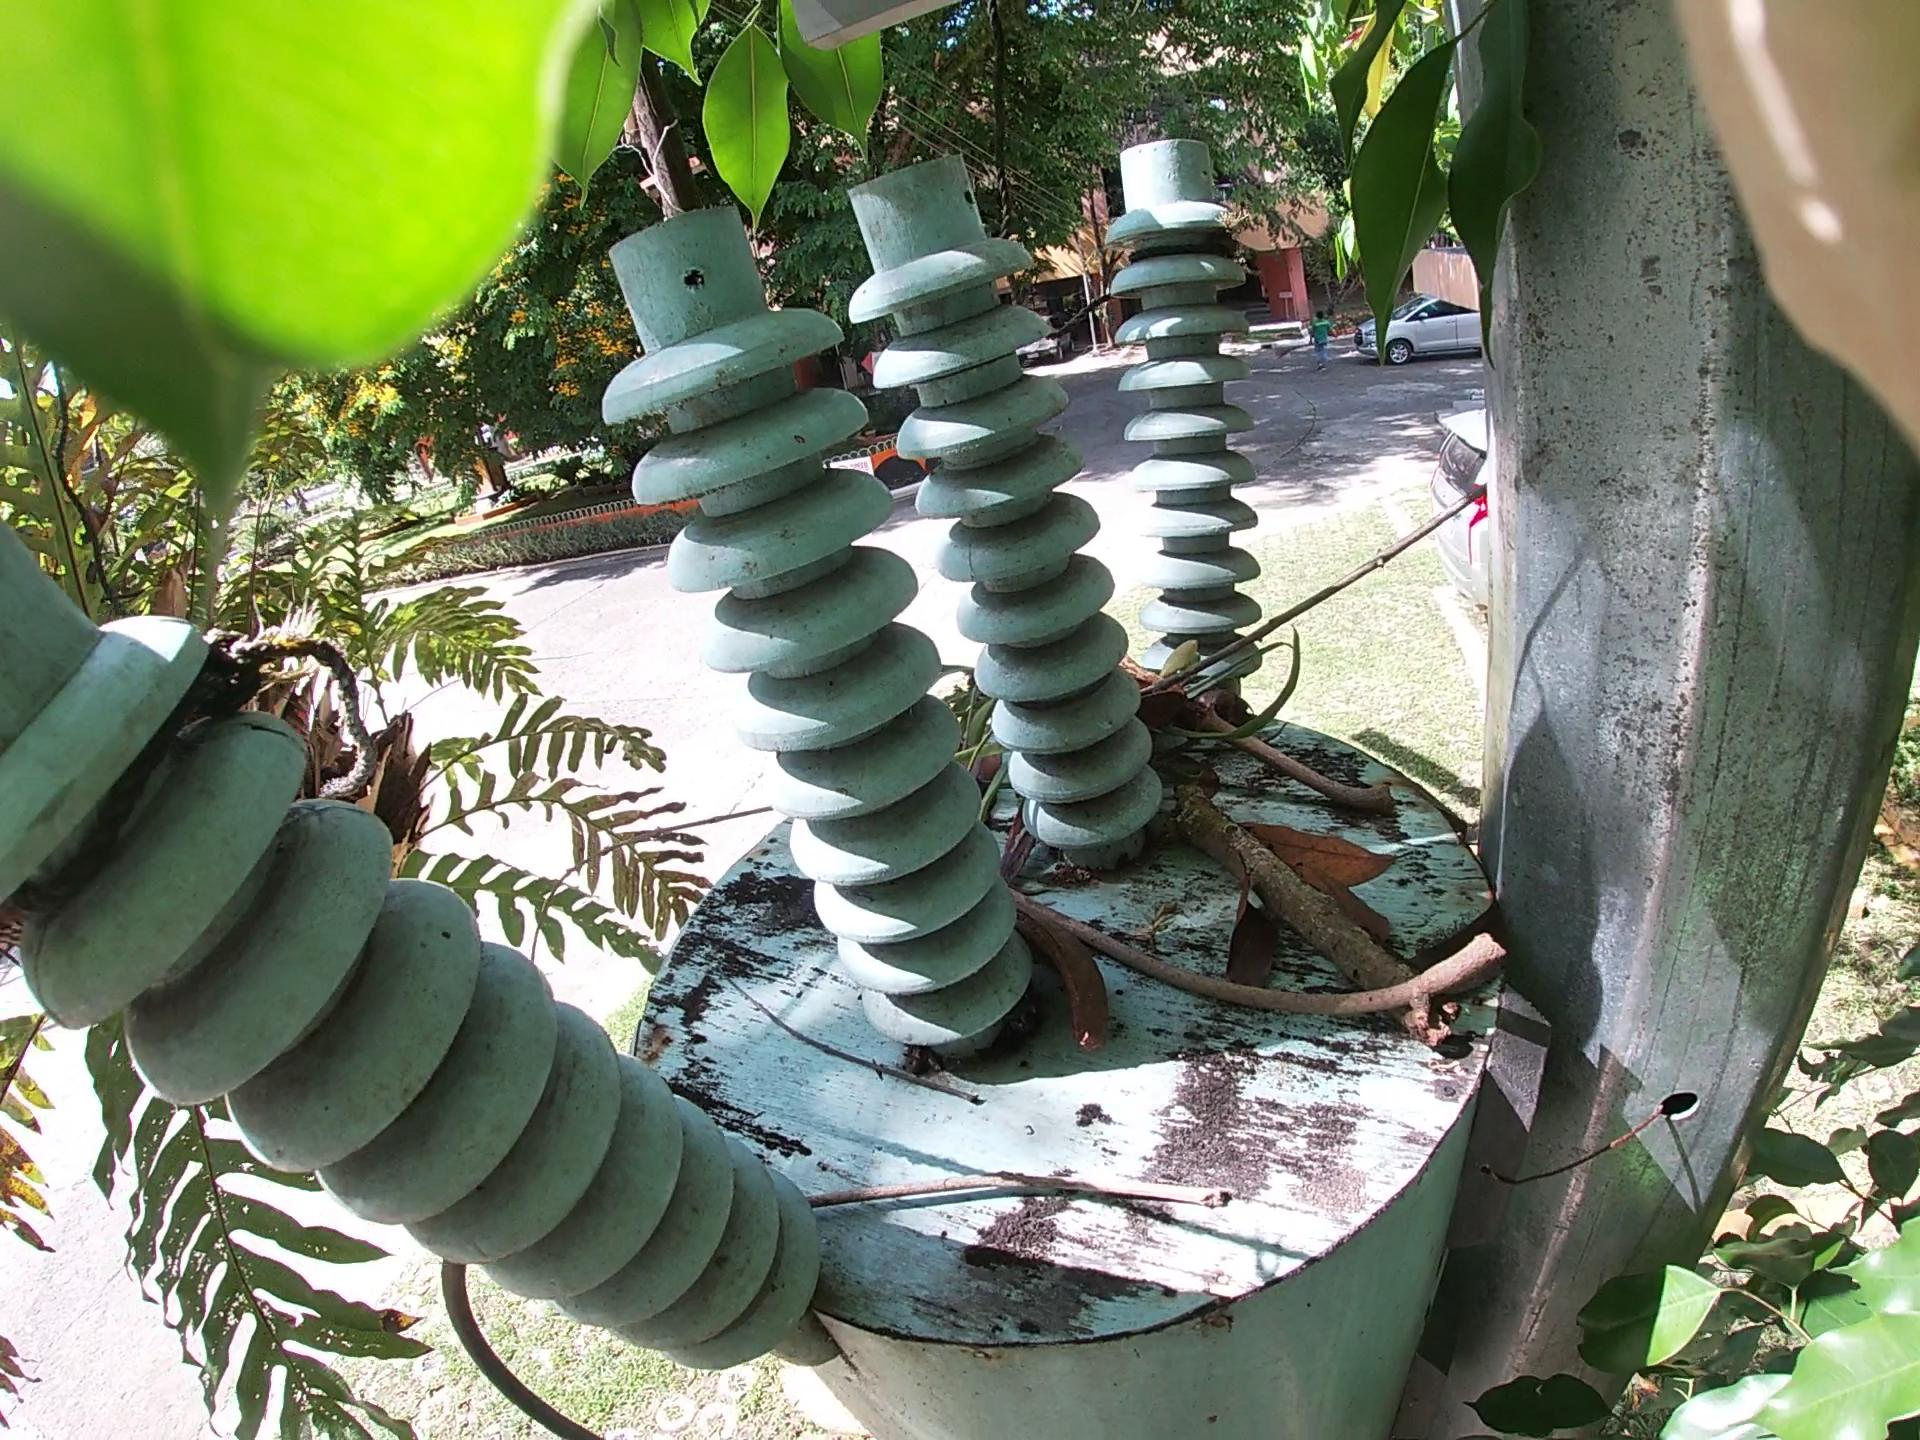branch with leaves: (1143, 653, 1477, 1104)
leaf: (1228, 796, 1401, 995)
tree branch: (1161, 357, 1640, 773), (1010, 824, 1550, 1026), (630, 1147, 1285, 1266), (1185, 650, 1448, 821)
